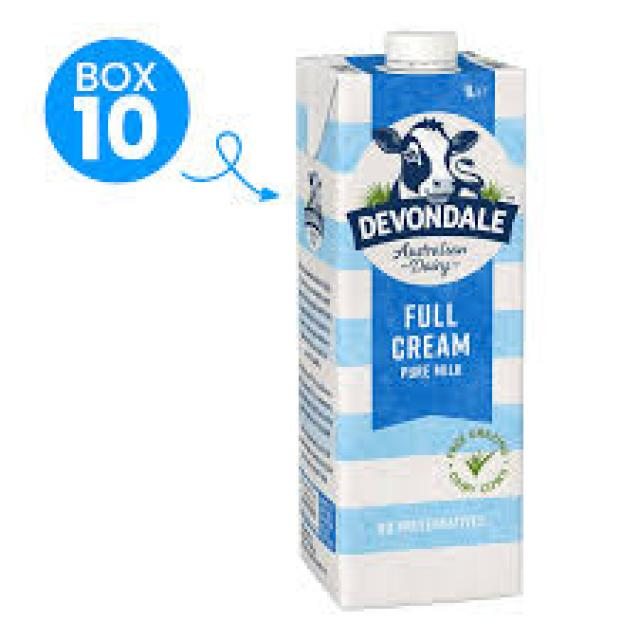non_white_jug: (270, 26, 532, 612)
